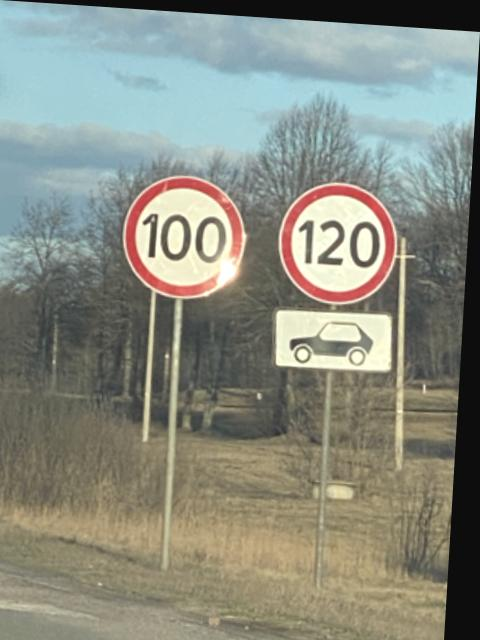limit100: (115, 167, 257, 300)
limit120: (277, 167, 409, 310)
